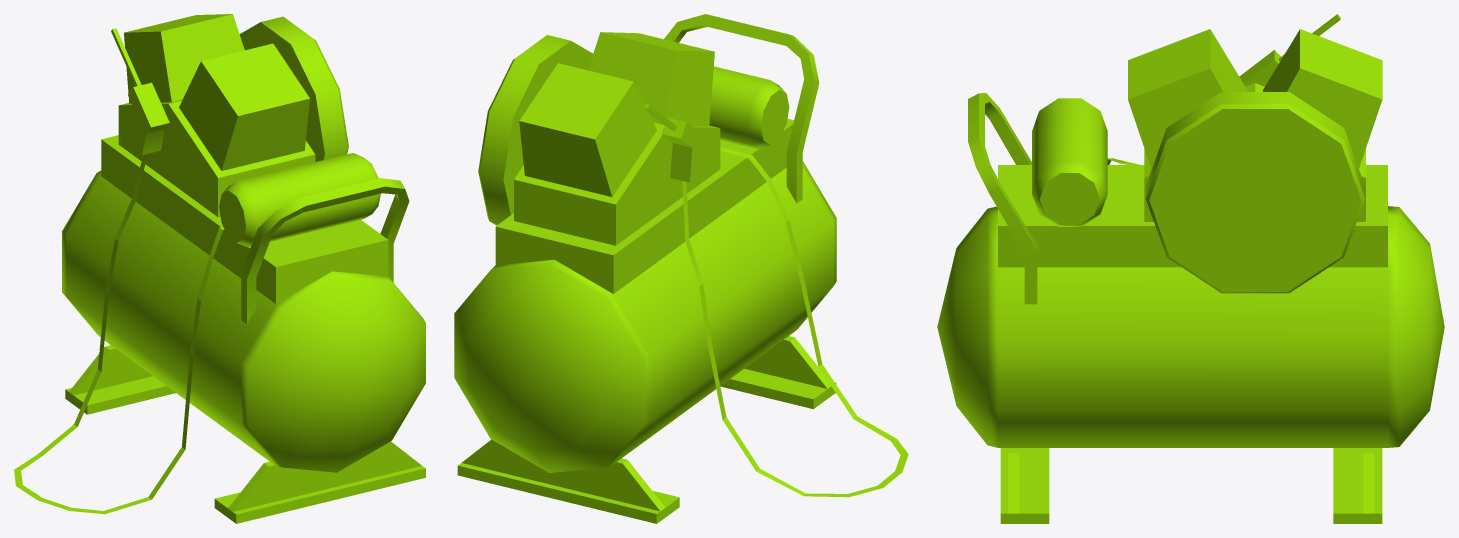
File: Asset_All_1.fbx
The picture shows the model from 3 angles, left to right: view 1: azimuth 30°, elevation 25°; view 2: azimuth 150°, elevation 25°; view 3: azimuth 270°, elevation 25°; orthographic projection. The views are drawn at different scales.
Visible parts, largest first — view 1: Asset_All_1; view 2: Asset_All_1; view 3: Asset_All_1.
Part boxes in pixels (bbox=[...]): Asset_All_1: bbox=[14, 14, 425, 523]; Asset_All_1: bbox=[454, 14, 908, 523]; Asset_All_1: bbox=[937, 14, 1444, 523].
Size of the model in its own units: 48.85 by 55.07 by 59.76.
